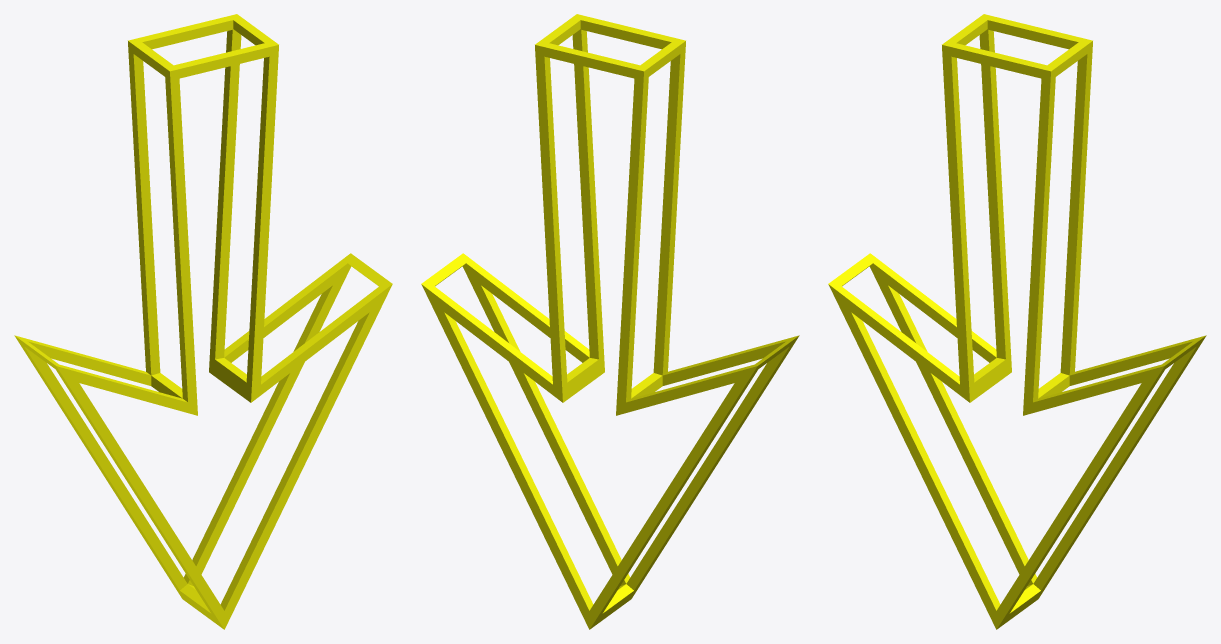
File: DownArrow.fbx
3 renders of one model, left to right at view 1: azimuth 30°, elevation 25°; view 2: azimuth 150°, elevation 25°; view 3: azimuth 330°, elevation 25°, orthographic.
Parts seen in each view (by area): view 1: Group1; view 2: Group1; view 3: Group1.
Part boxes in pixels (left/top/right/bottom): Group1: left=14, top=14, right=392, bottom=629; Group1: left=421, top=14, right=799, bottom=629; Group1: left=828, top=14, right=1206, bottom=629.
Size of the model in its own units: 924 by 1500 by 200.
